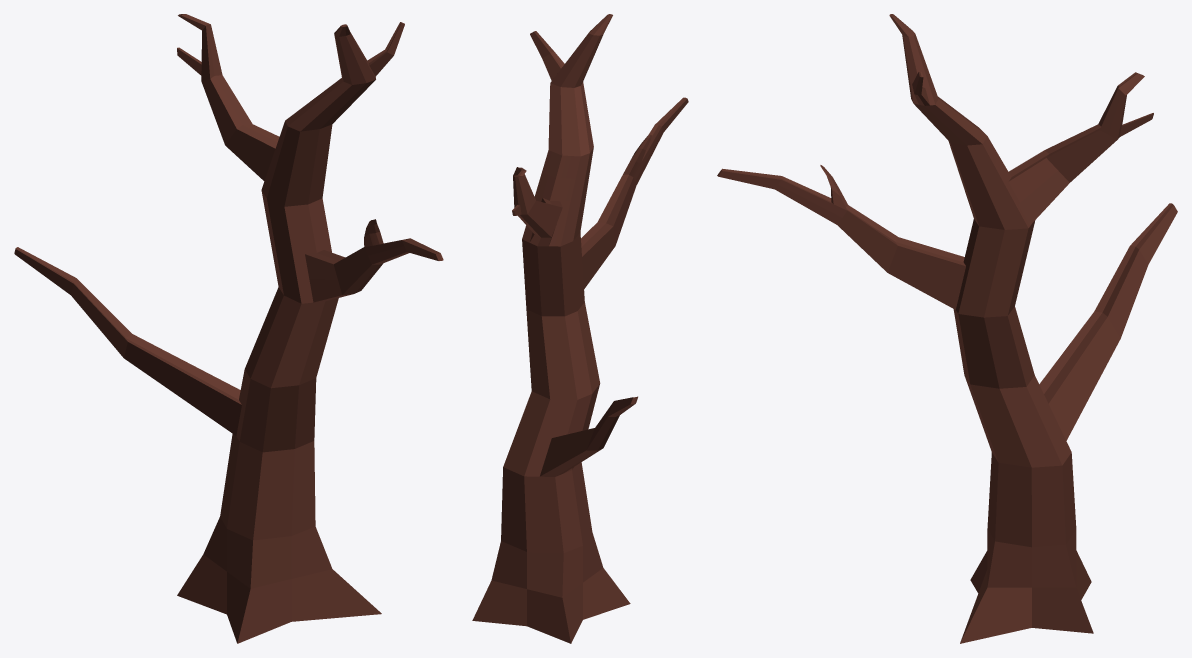
Rendered from BareTree_Onai.glb.
3 views of the same model, side by side, from view 1: azimuth 30°, elevation 25°; view 2: azimuth 150°, elevation 25°; view 3: azimuth 270°, elevation 25° (orthographic). The views are drawn at different scales.
Visible parts, largest first — view 1: Cube; view 2: Cube; view 3: Cube.
Part boxes in pixels (box(x1,y1,x2,y2)): Cube: box(14, 14, 443, 643); Cube: box(472, 14, 688, 643); Cube: box(717, 14, 1177, 643).
Bounding box in the file's own units: 6.27 × 14.77 × 10.37.
1 material, 1 textured.
